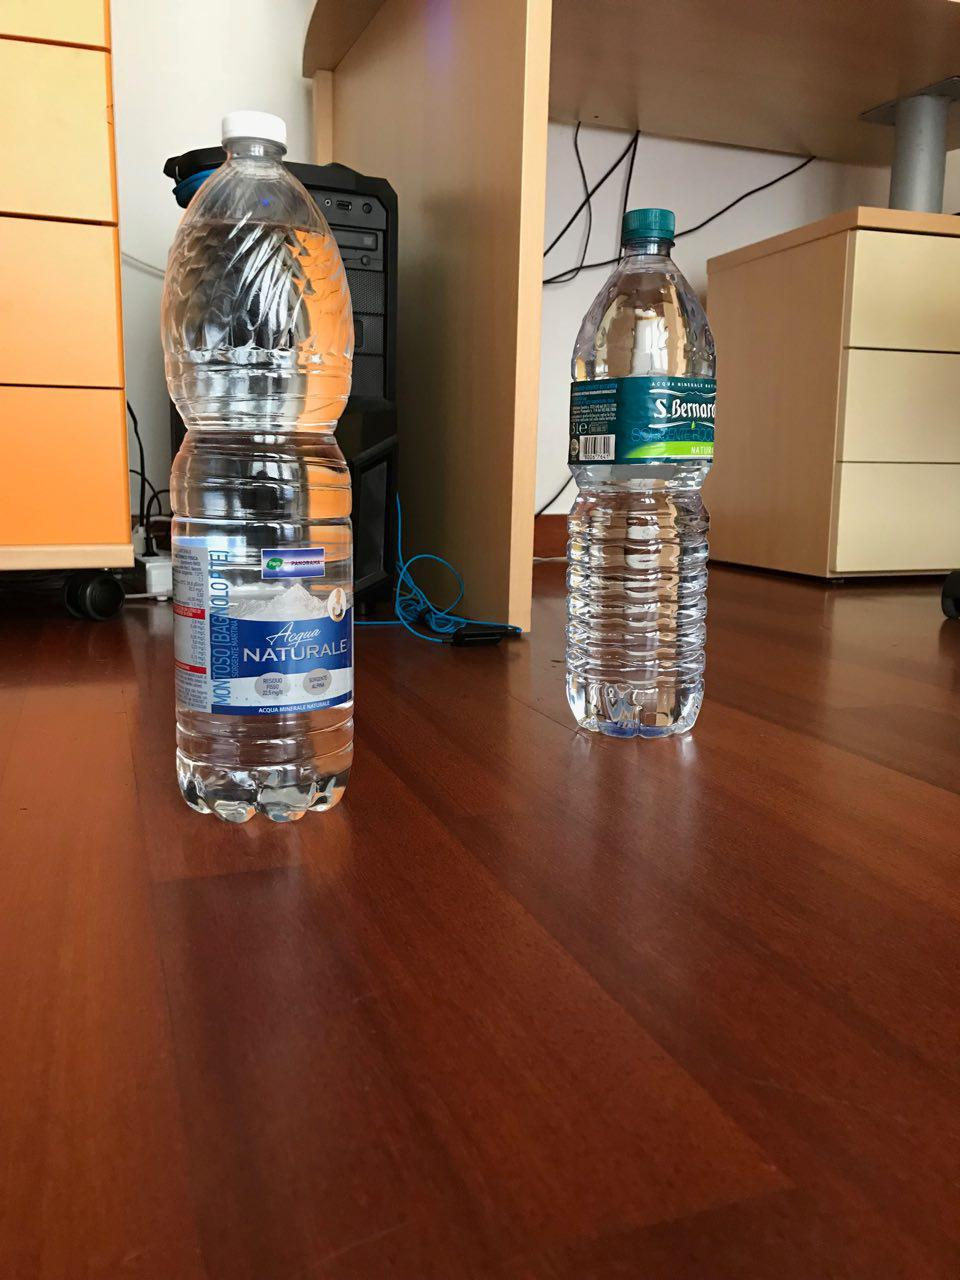san_bernardo: (567, 208, 717, 740)
